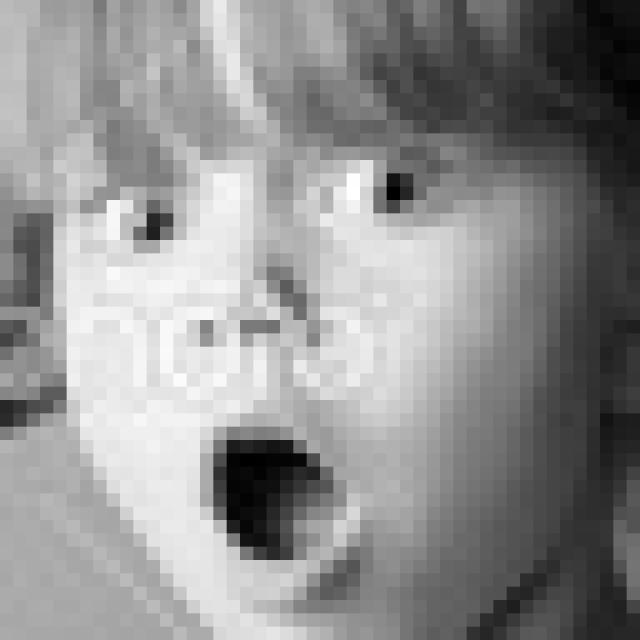surprise: (84, 126, 486, 614)
